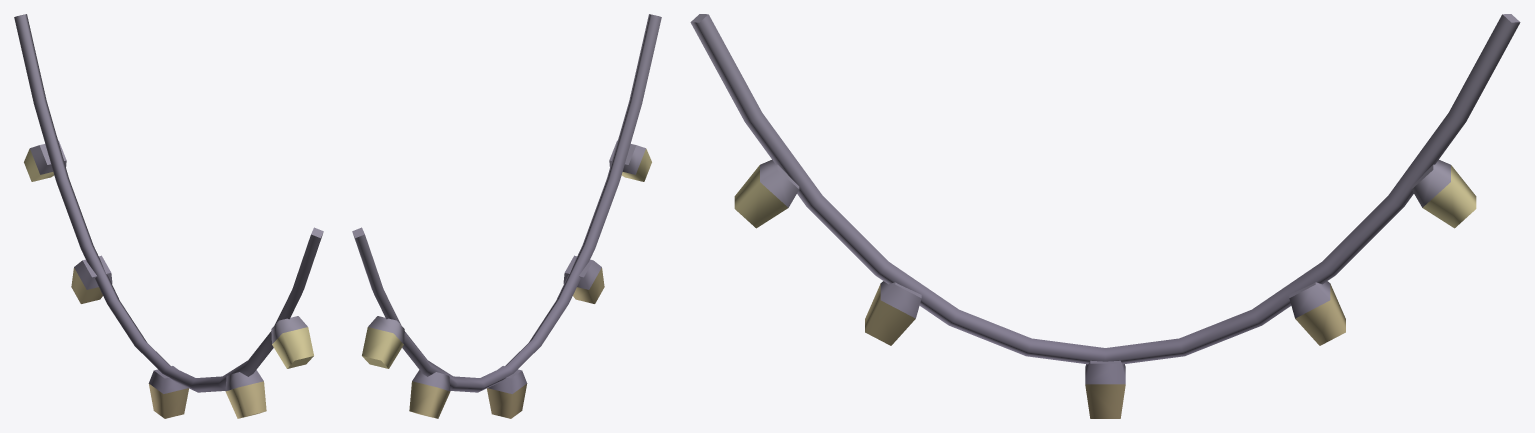
Rendered from lights-fairy-c (%wall).glb.
3 renders of one model, left to right at view 1: azimuth 30°, elevation 25°; view 2: azimuth 150°, elevation 25°; view 3: azimuth 270°, elevation 25°, orthographic. The views are drawn at different scales.
Visible parts, largest first — view 1: lights-fairy-c (%wall); view 2: lights-fairy-c (%wall); view 3: lights-fairy-c (%wall).
Boxes of the visible parts, <box> form: lights-fairy-c (%wall): <box>14,14,323,418</box>; lights-fairy-c (%wall): <box>352,14,661,418</box>; lights-fairy-c (%wall): <box>690,14,1520,418</box>.
Bounding box in the file's own units: 0.05 × 0.5414 × 1.02.
